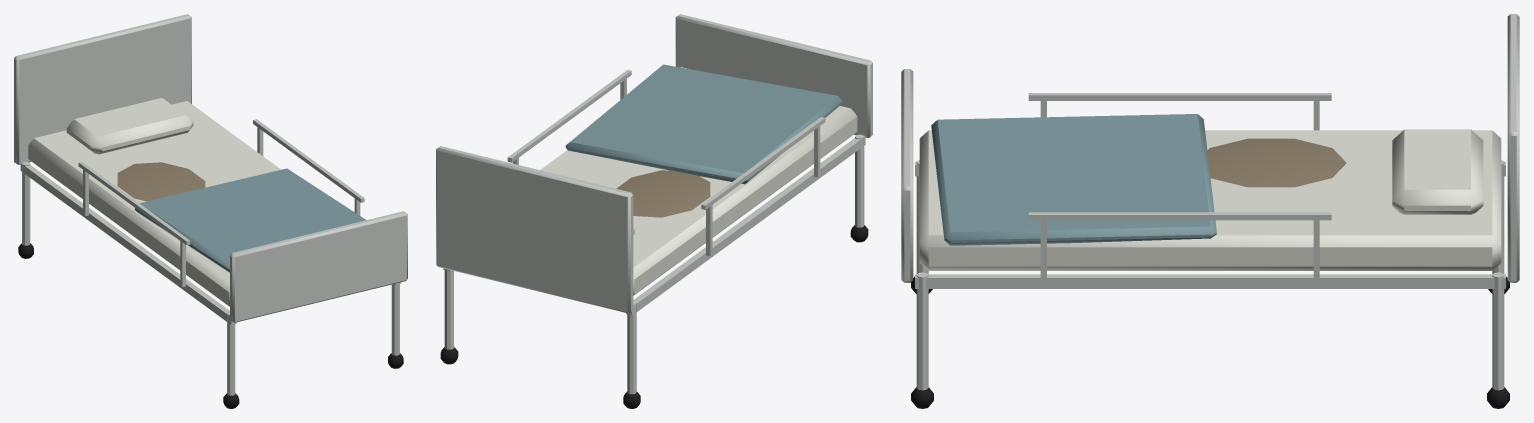
Rendered from hospital_bed.glb.
3 renders of one model, left to right at view 1: azimuth 30°, elevation 25°; view 2: azimuth 150°, elevation 25°; view 3: azimuth 270°, elevation 25°, orthographic. The views are drawn at different scales.
Visible parts, largest first — view 1: HospitalBed; view 2: HospitalBed; view 3: HospitalBed.
Boxes of the visible parts, x1,y1,x2,y2 form: HospitalBed: (14,14,407,408); HospitalBed: (436,14,872,408); HospitalBed: (901,14,1519,408).
Size of the model in its own units: 0.9561 by 1.01 by 2.04.
